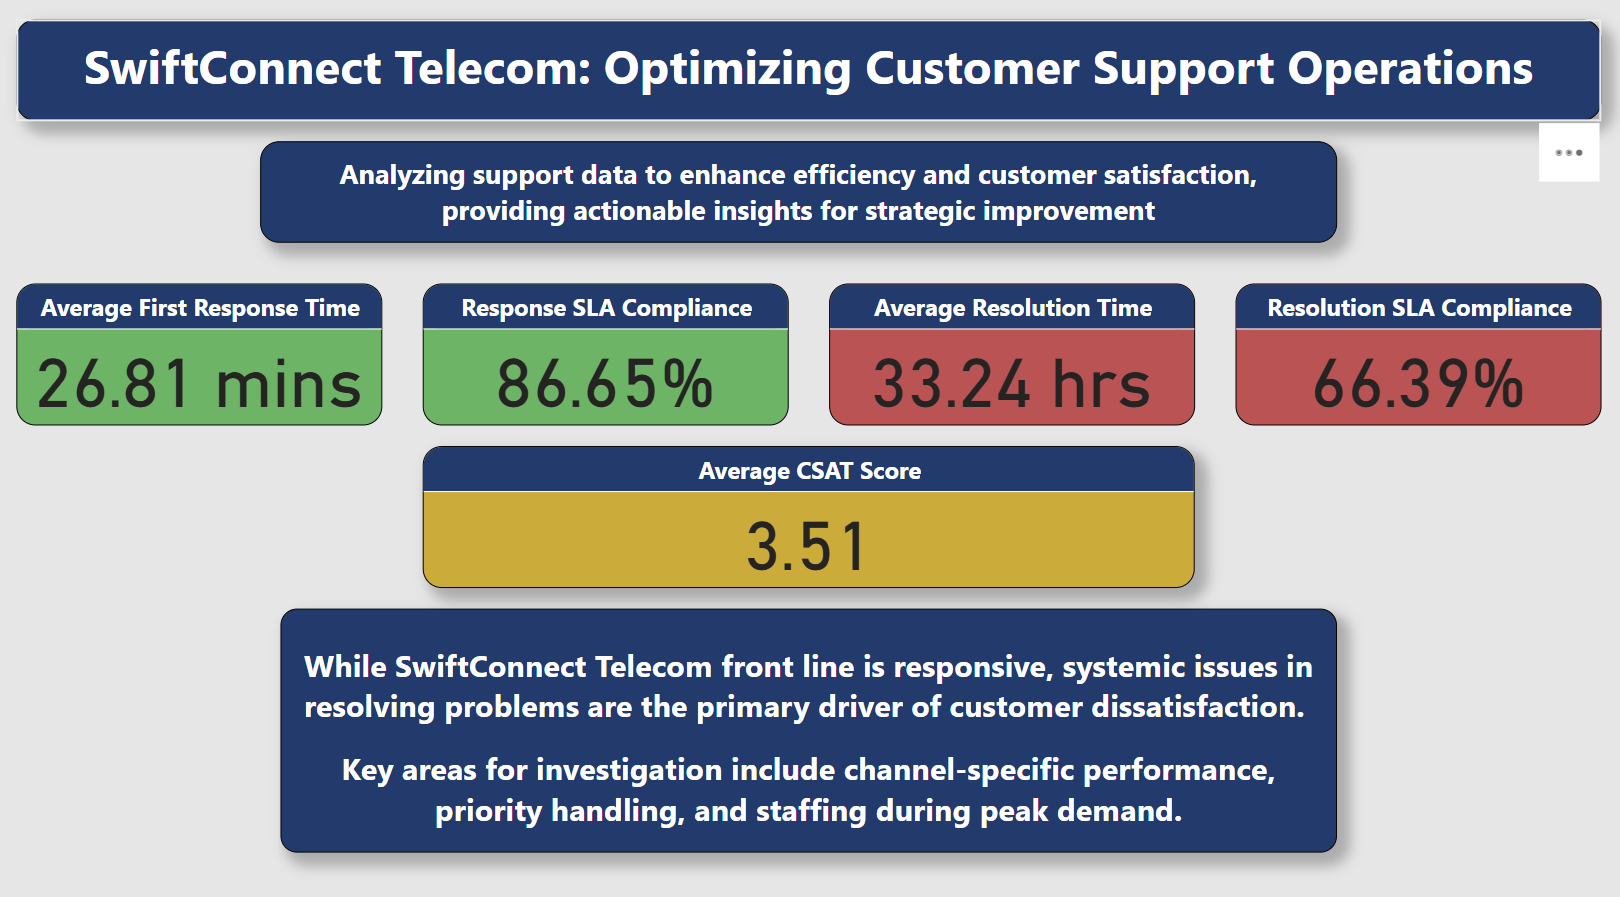

Layout of this report page (visuals, bound fields, positions):
{"tool":"powerbi","page":{"name":"Executive Summary & Overall Performance ","canvas":[1280,720],"ordinal":0},"visuals":[{"type":"textbox","box":[16,16,1248,80],"z":0},{"type":"textbox","box":[208,112,848,80],"z":1000},{"type":"card","title":"Average First Response Time","fields":{"Values":["technical_support_data_engineered.Overall Average First Response Time"]},"box":[16,224,288,112],"z":2000},{"type":"card","title":"Average Resolution Time","fields":{"Values":["technical_support_data_engineered.Overall Average Resolution Time"]},"box":[656,224,288,112],"z":3000},{"type":"card","title":" Response SLA Compliance","fields":{"Values":["technical_support_data_engineered.Overall First Response SLA Compliance (%)"]},"box":[336,224,288,112],"z":4000},{"type":"card","title":"Resolution SLA Compliance","fields":{"Values":["technical_support_data_engineered.Overall Resolution SLA Compliance (%)"]},"box":[976,224,288,112],"z":5000},{"type":"card","title":"Average CSAT Score","fields":{"Values":["technical_support_data_engineered.Overall Average CSAT Score"]},"box":[336,352,608,112],"z":6000},{"type":"textbox","box":[224,480,832,192],"z":7000}]}

Visuals, with their boxes in screenshot pixels (x1, y1, x2, y2), scaled from the page's 1280x720 canvas onto the 1620x897 screenshot:
textbox: Rect(20, 20, 1600, 120)
textbox: Rect(263, 140, 1336, 239)
"Average First Response Time" card: Rect(20, 279, 385, 419)
"Average Resolution Time" card: Rect(830, 279, 1195, 419)
" Response SLA Compliance" card: Rect(425, 279, 790, 419)
"Resolution SLA Compliance" card: Rect(1235, 279, 1600, 419)
"Average CSAT Score" card: Rect(425, 439, 1195, 578)
textbox: Rect(284, 598, 1336, 837)
